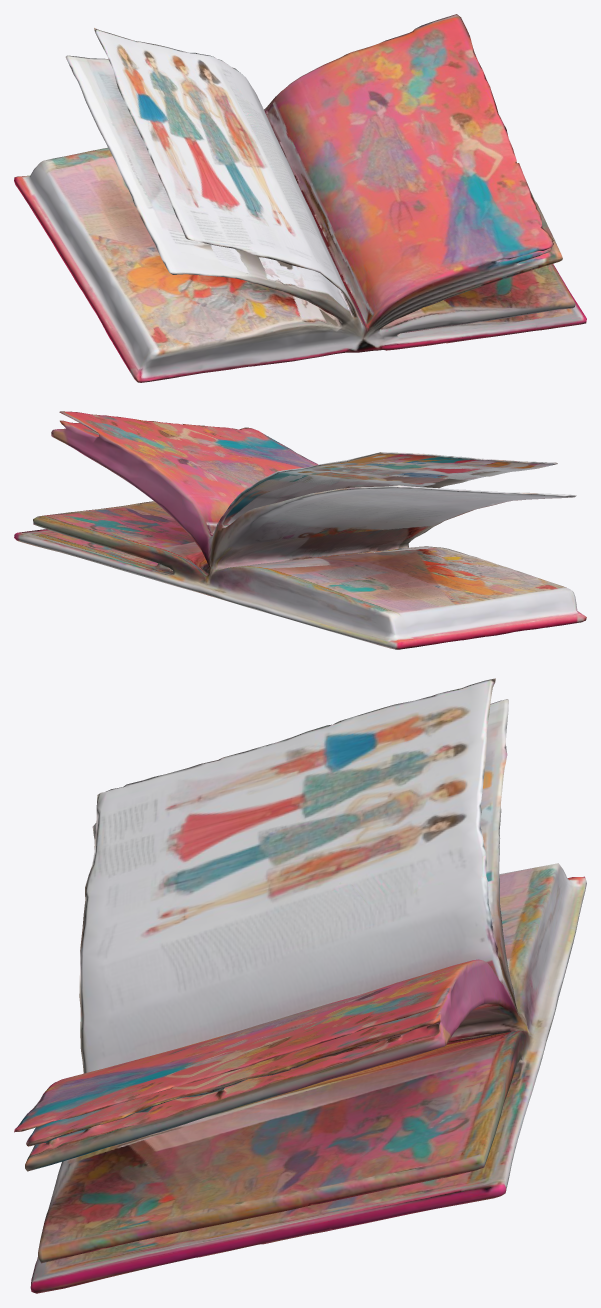
File: Comprehensive fashion book.gltf
3 renders of one model, top to bottom at view 1: azimuth 30°, elevation 25°; view 2: azimuth 150°, elevation 25°; view 3: azimuth 270°, elevation 25°, orthographic. The views are drawn at different scales.
Parts seen in each view (by area): view 1: Mesh1.0; view 2: Mesh1.0; view 3: Mesh1.0.
Boxes of the visible parts, x1,y1,x2,y2 form: Mesh1.0: (14, 14, 586, 382); Mesh1.0: (14, 411, 586, 649); Mesh1.0: (14, 678, 586, 1293).
Size of the model in its own units: 2 by 1.1 by 1.51.
1 material, 1 textured.
